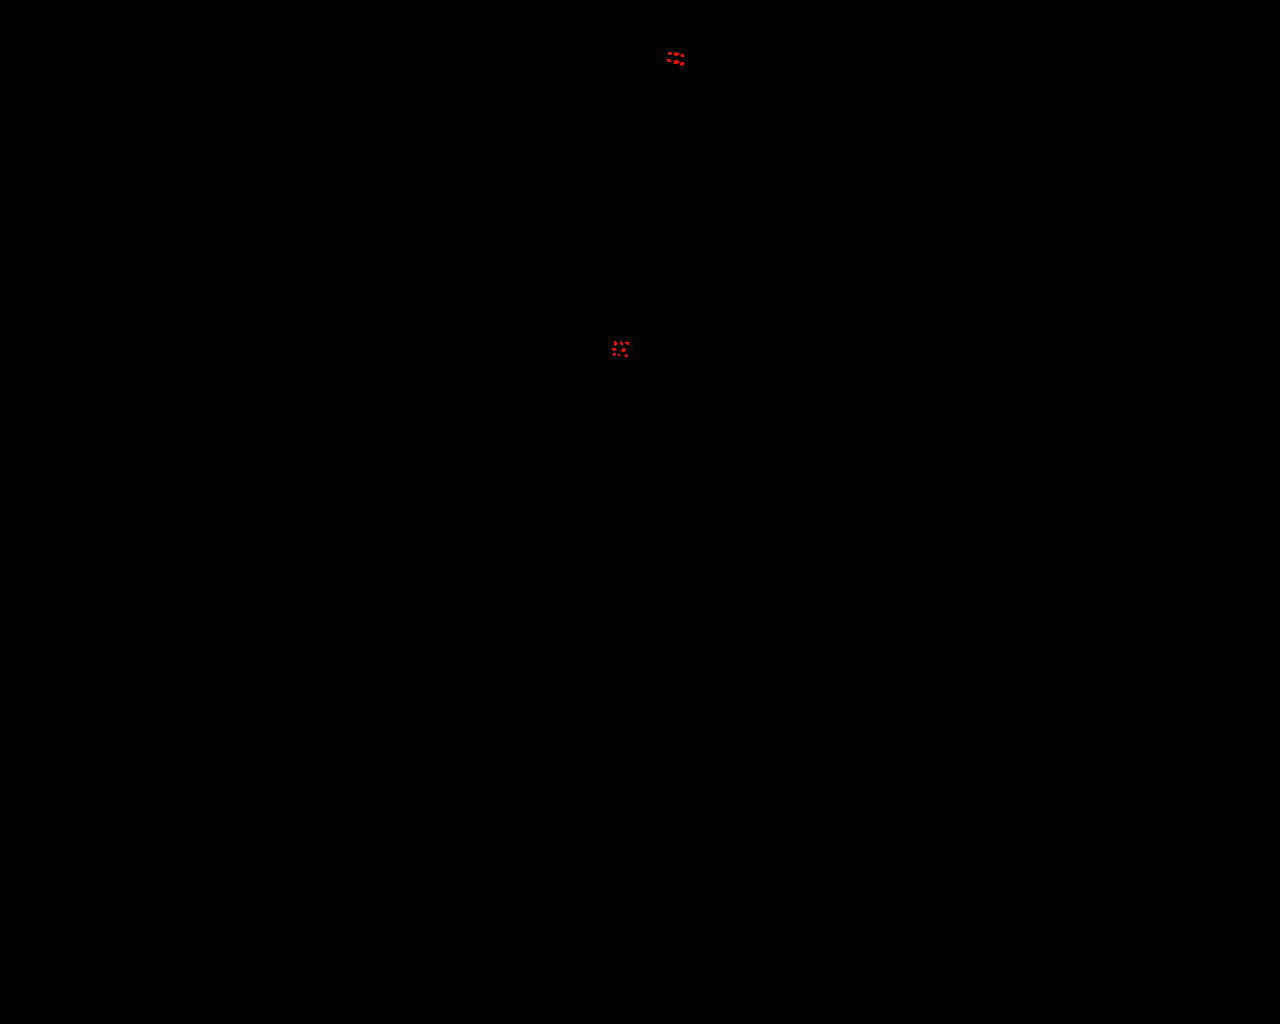Target: (674, 52, 679, 56), (674, 60, 679, 64), (621, 348, 626, 352), (680, 62, 684, 66), (625, 341, 629, 345), (668, 52, 672, 55), (667, 59, 671, 62), (620, 341, 623, 345), (612, 348, 616, 351), (614, 341, 616, 346), (681, 54, 684, 57), (613, 353, 616, 356), (625, 354, 628, 357), (618, 354, 620, 356)
